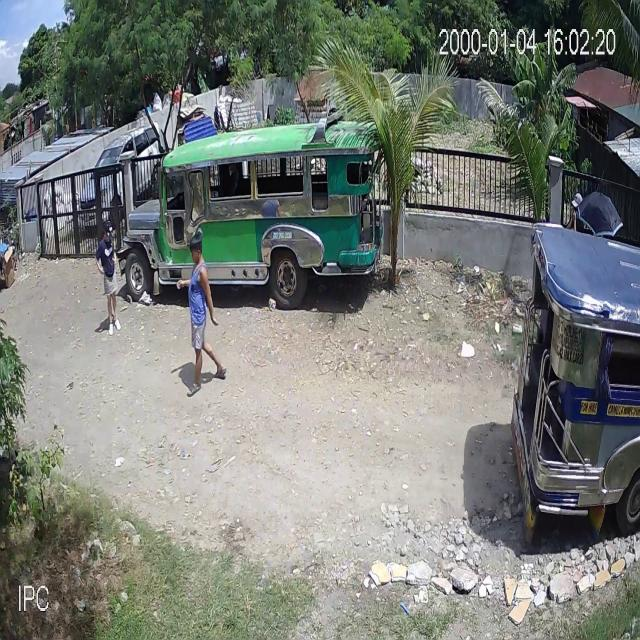standing: (96, 221, 123, 339), (566, 191, 585, 236)
walking: (185, 232, 225, 397)
